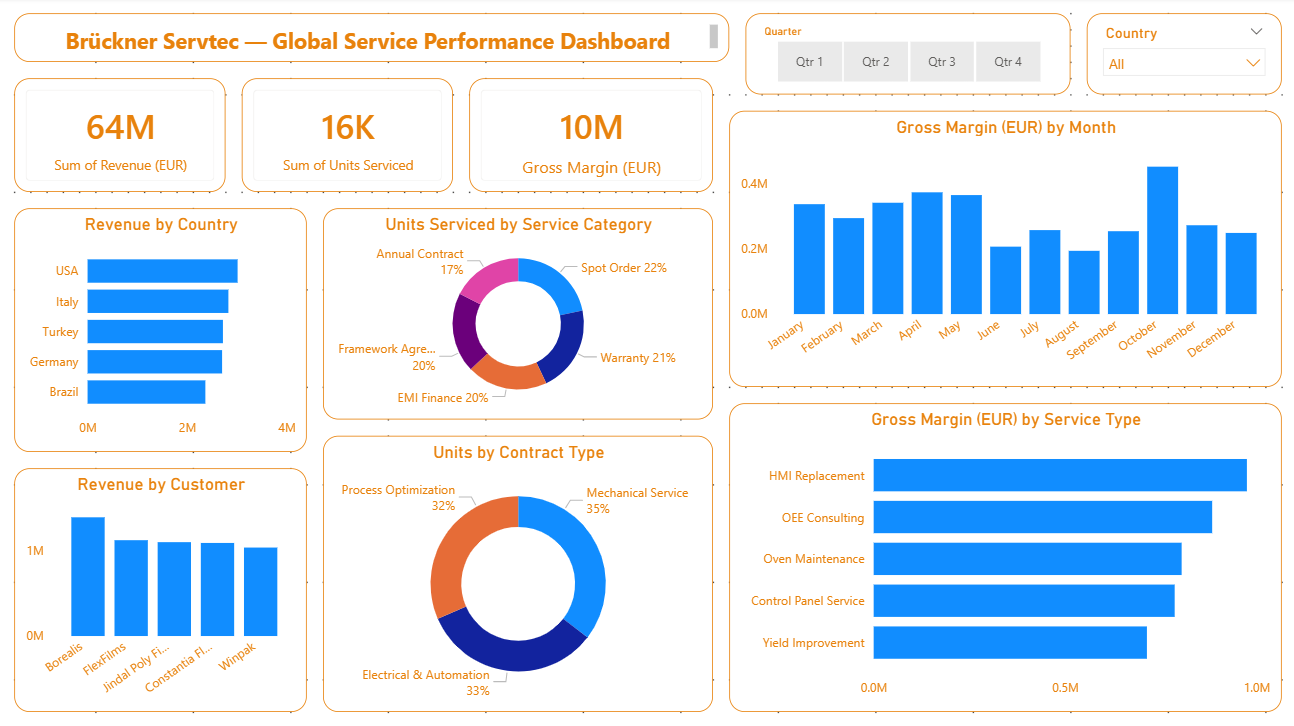

What the dashboard file says about the page in this screenshot:
{"tool":"powerbi","page":{"name":"Page 1","canvas":[1280,720],"ordinal":0},"visuals":[{"type":"columnChart","title":"Gross Margin (EUR) by Month","fields":{"Category":["ServiceOrders.Service Date.Variation.Date Hierarchy.Month"],"Y":["Sum(ServiceDetails.Gross Margin (EUR))"]},"box":[720,112,544,272],"z":0},{"type":"barChart","title":"Gross Margin (EUR) by Service Type","fields":{"Category":["ServiceDetails.Service Type"],"Y":["Sum(ServiceDetails.Gross Margin (EUR))"]},"box":[720,400,544,304],"z":1000},{"type":"donutChart","title":"Units by Contract Type","fields":{"Category":["ServiceDetails.Service Category"],"Y":["Sum(ServiceDetails.Units Serviced)"]},"box":[320,432,384,272],"z":2000},{"type":"donutChart","title":"Units Serviced by Service Category","fields":{"Category":["ServiceDetails.Contract Type","ServiceDetails.Service Category"],"Y":["Sum(ServiceDetails.Units Serviced)"]},"box":[320,208,384,208],"z":3000},{"type":"cardVisual","fields":{"Data":["Sum(ServiceDetails.Revenue (EUR))"]},"box":[16,80,208,112],"z":4000},{"type":"cardVisual","fields":{"Data":["Sum(ServiceDetails.Units Serviced)"]},"box":[240,80,208,112],"z":5000},{"type":"cardVisual","fields":{"Data":["Sum(ServiceDetails.Gross Margin (EUR))"]},"box":[464,80,240,112],"z":6000},{"type":"barChart","title":"Revenue by Country","fields":{"Category":["ServiceOrders.Country"],"Y":["Sum(ServiceDetails.Revenue (EUR))"]},"box":[16,208,288,240],"z":8000},{"type":"columnChart","title":"Revenue by Customer","fields":{"Category":["ServiceOrders.Customer Name"],"Y":["Sum(ServiceDetails.Revenue (EUR))"]},"box":[16,464,288,240],"z":9000},{"type":"textbox","box":[16,16,704,48],"z":10000},{"type":"slicer","fields":{"Values":["ServiceOrders.Service Date.Variation.Date Hierarchy.Quarter"]},"box":[736,16,320,80],"z":11000},{"type":"slicer","fields":{"Values":["ServiceOrders.Country"]},"box":[1072,16,192,80],"z":12000}]}

Visuals, with their boxes in screenshot pixels (x1, y1, x2, y2), scaled from the page's 1280x720 canvas onto the 1294x726 screenshot:
"Gross Margin (EUR) by Month" columnChart: crop(728, 113, 1278, 387)
"Gross Margin (EUR) by Service Type" barChart: crop(728, 403, 1278, 710)
"Units by Contract Type" donutChart: crop(324, 436, 712, 710)
"Units Serviced by Service Category" donutChart: crop(324, 210, 712, 419)
cardVisual - Sum(ServiceDetails.Revenue (EUR)): crop(16, 81, 226, 194)
cardVisual - Sum(ServiceDetails.Units Serviced): crop(243, 81, 453, 194)
cardVisual - Sum(ServiceDetails.Gross Margin (EUR)): crop(469, 81, 712, 194)
"Revenue by Country" barChart: crop(16, 210, 307, 452)
"Revenue by Customer" columnChart: crop(16, 468, 307, 710)
textbox: crop(16, 16, 728, 65)
slicer - ServiceOrders.Service Date.Variation.Date Hierarchy.Quarter: crop(744, 16, 1068, 97)
slicer - ServiceOrders.Country: crop(1084, 16, 1278, 97)
